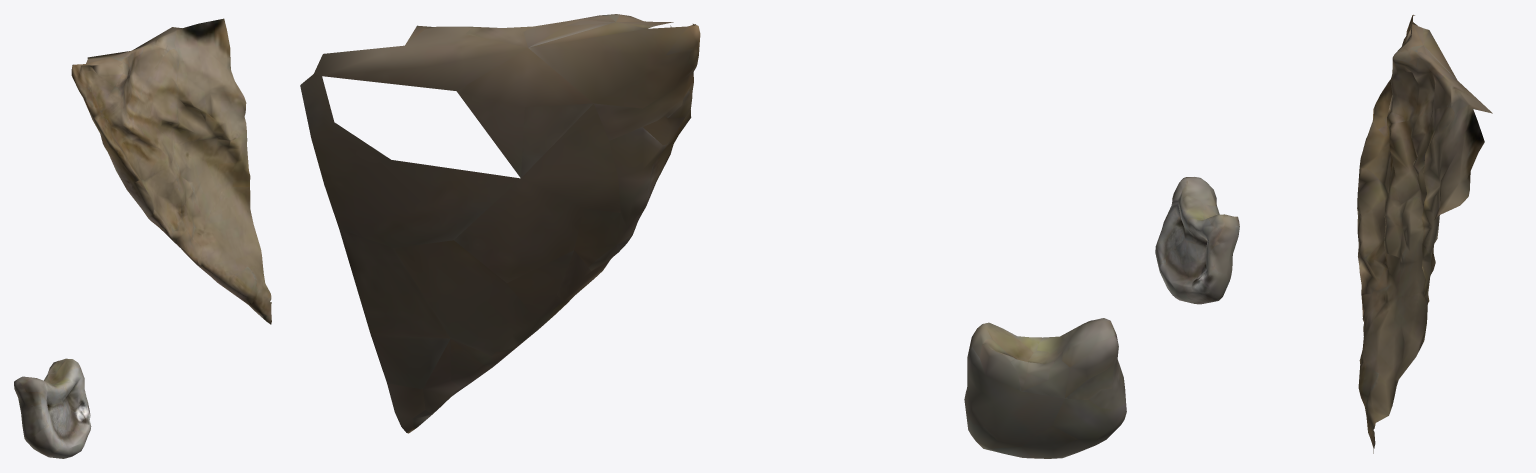
Rendered from hall.glb.
3 renders of one model, left to right at view 1: azimuth 30°, elevation 25°; view 2: azimuth 150°, elevation 25°; view 3: azimuth 270°, elevation 25°, orthographic. The views are drawn at different scales.
Size of the model in its own units: 0.8563 by 0.7265 by 0.7022.
Materials: 1 (1 with a texture image).
